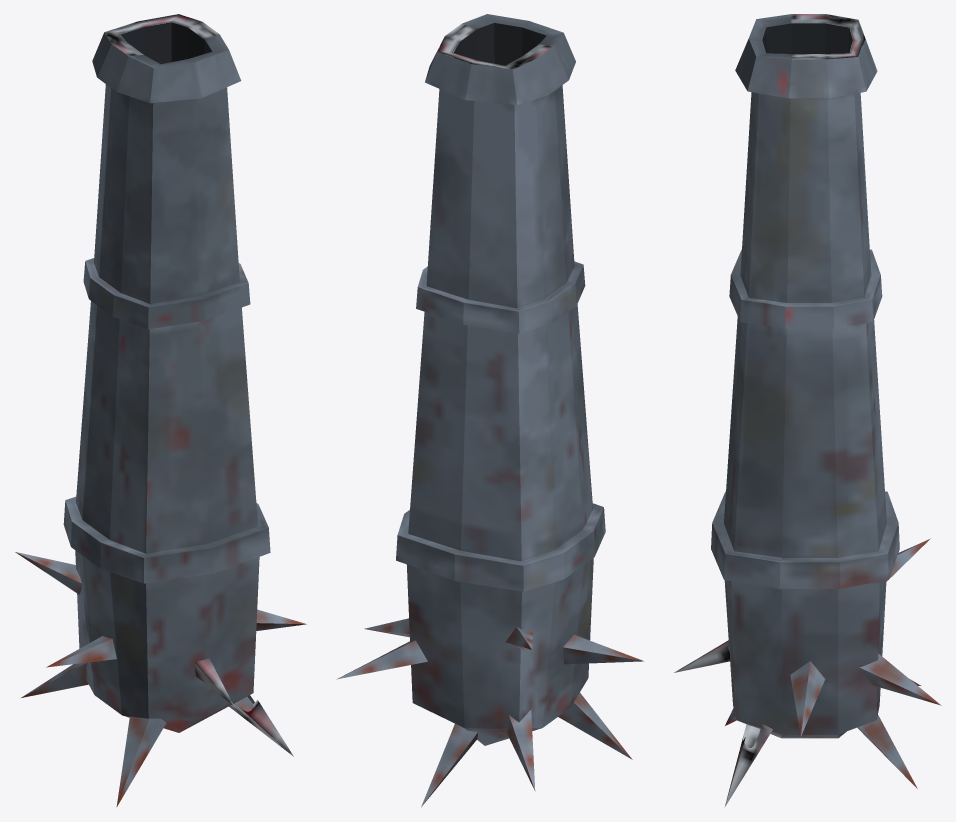
Rendered from SM_TrollCannon.fbx.
3 views of the same model, side by side, from view 1: azimuth 30°, elevation 25°; view 2: azimuth 150°, elevation 25°; view 3: azimuth 270°, elevation 25° (orthographic). The views are drawn at different scales.
Parts seen in each view (by area): view 1: canon; view 2: canon; view 3: canon.
Part boxes in pixels (left/top/right/bottom): canon: left=15, top=14, right=306, bottom=806; canon: left=336, top=14, right=643, bottom=807; canon: left=674, top=14, right=941, bottom=807.
Bounding box in the file's own units: 14310 × 36656 × 12041.
